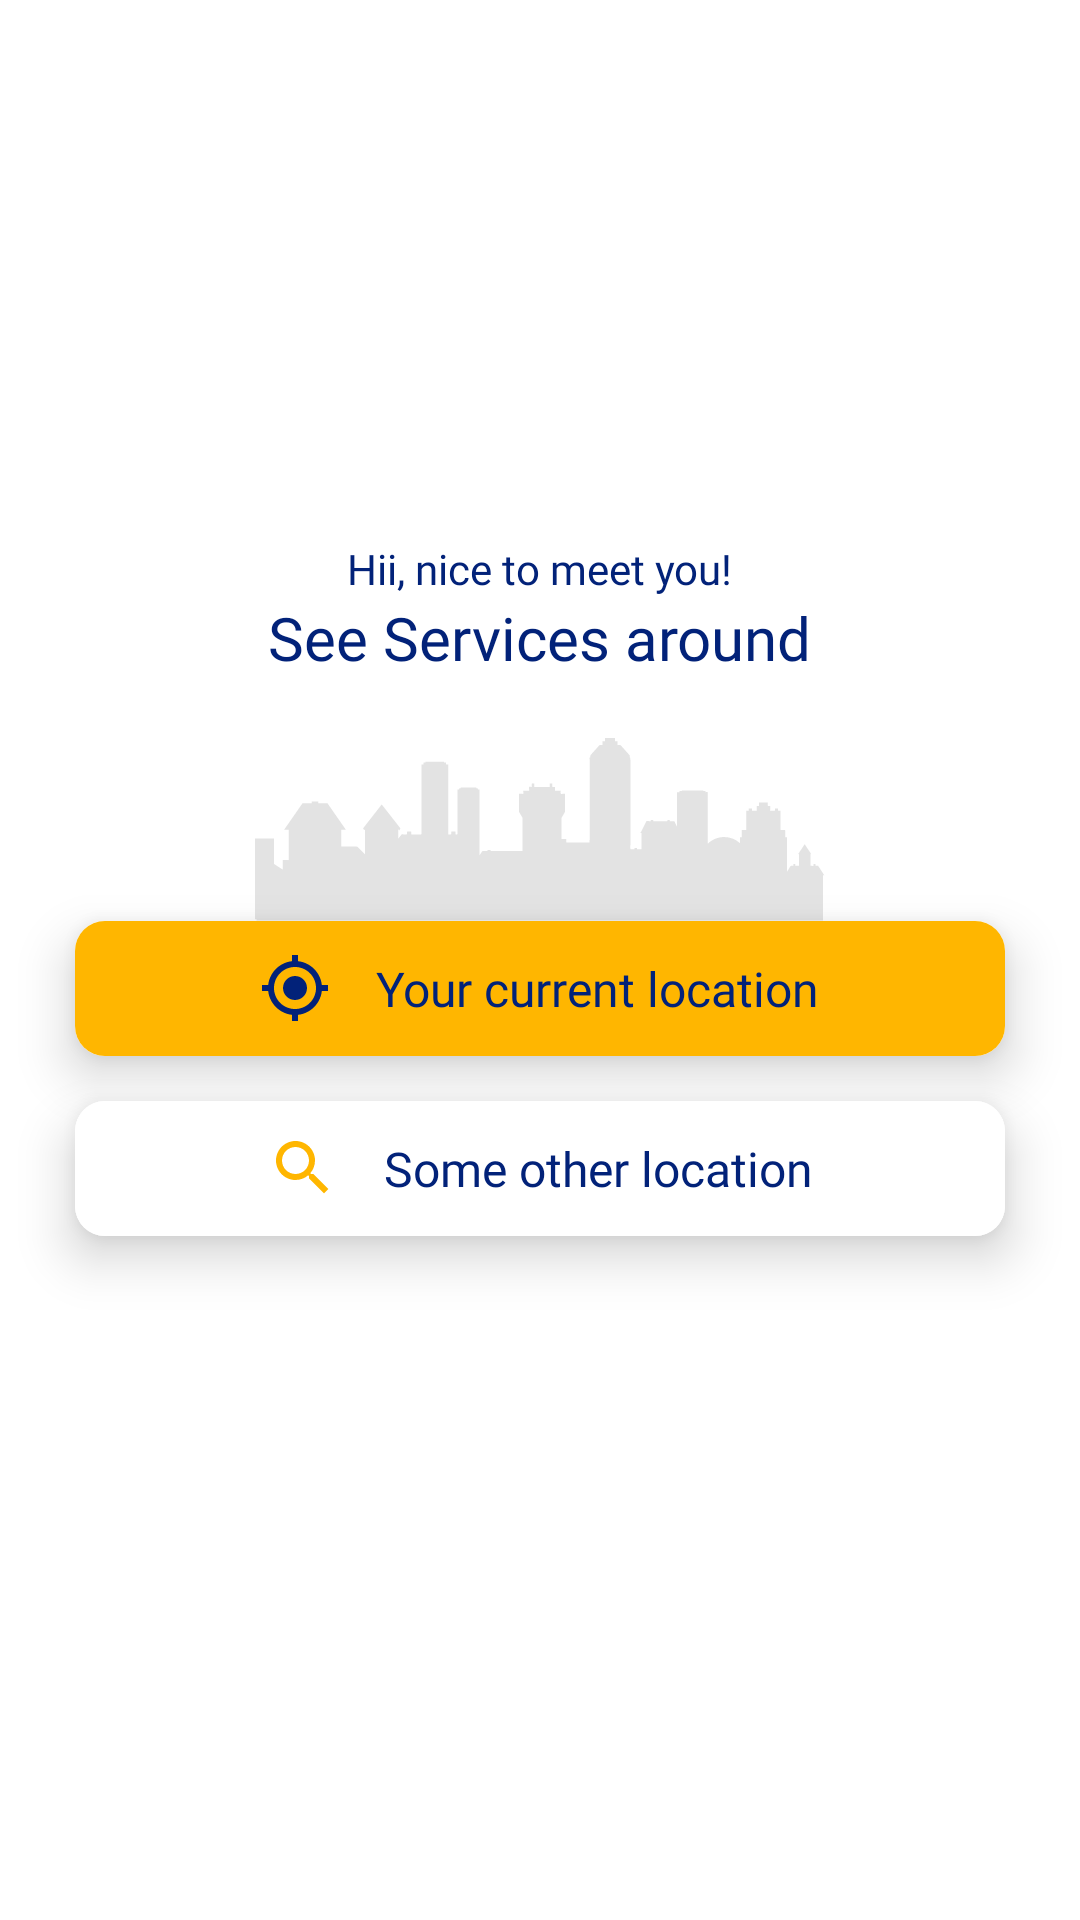

Icons on this 1080w x 1920h Android screen, each with its box as {"left": x1, "top": y1, "right": x2, "bottom": y2}:
search: {"left": 276, "top": 1141, "right": 328, "bottom": 1193}
